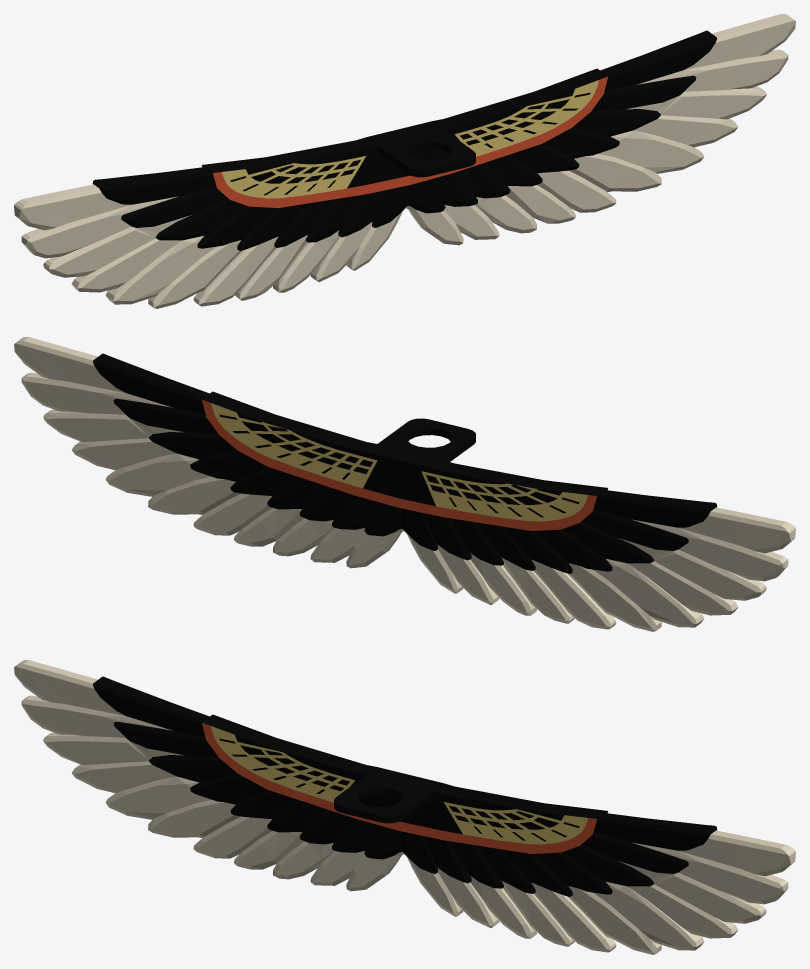
Rendered from Wings_asset.fbx.
The picture shows the model from 3 angles, top to bottom: view 1: azimuth 30°, elevation 25°; view 2: azimuth 150°, elevation 25°; view 3: azimuth 330°, elevation 25°; orthographic projection.
Parts seen in each view (by area): view 1: Piece002; view 2: Piece002; view 3: Piece002.
Part boxes in pixels (left/top/right/bottom): Piece002: left=14, top=14, right=795, bottom=308; Piece002: left=14, top=337, right=795, bottom=631; Piece002: left=14, top=660, right=795, bottom=954.
Size of the model in its own units: 235 by 44.11 by 25.77.
